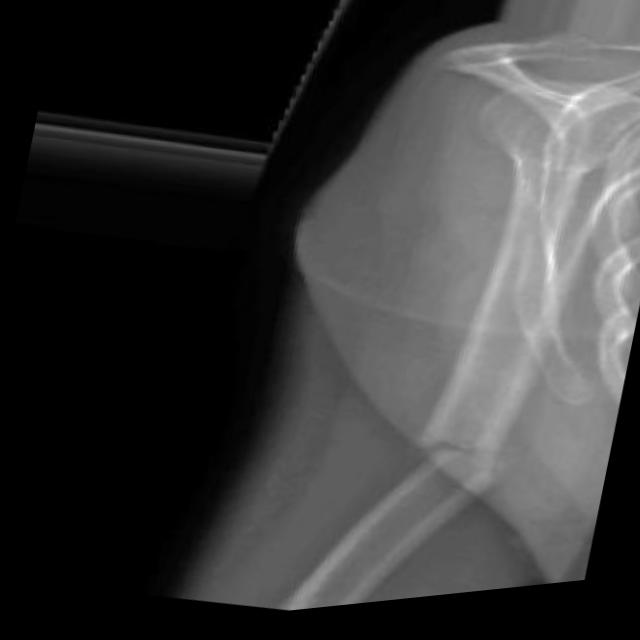fracture: (383, 404, 521, 510)
